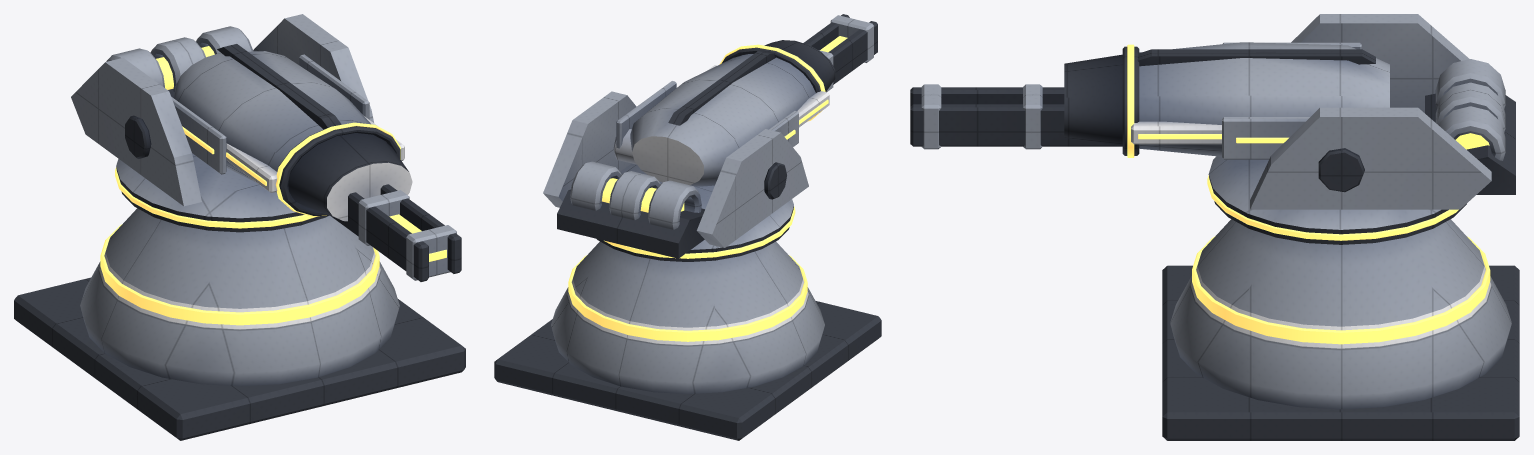
Rendered from R4W_Basic_LOD1.glb.
3 views of the same model, side by side, from view 1: azimuth 30°, elevation 25°; view 2: azimuth 150°, elevation 25°; view 3: azimuth 270°, elevation 25° (orthographic). The views are drawn at different scales.
Visible parts, largest first — view 1: R4W_Basic_LOD1; view 2: R4W_Basic_LOD1; view 3: R4W_Basic_LOD1.
Boxes of the visible parts, box(x1,y1,x2,y2) form: R4W_Basic_LOD1: box(14, 14, 465, 440); R4W_Basic_LOD1: box(494, 14, 881, 440); R4W_Basic_LOD1: box(910, 14, 1519, 440).
Bounding box in the file's own units: 0.51 × 0.496 × 0.87.
Materials: 4 (3 with a texture image).
